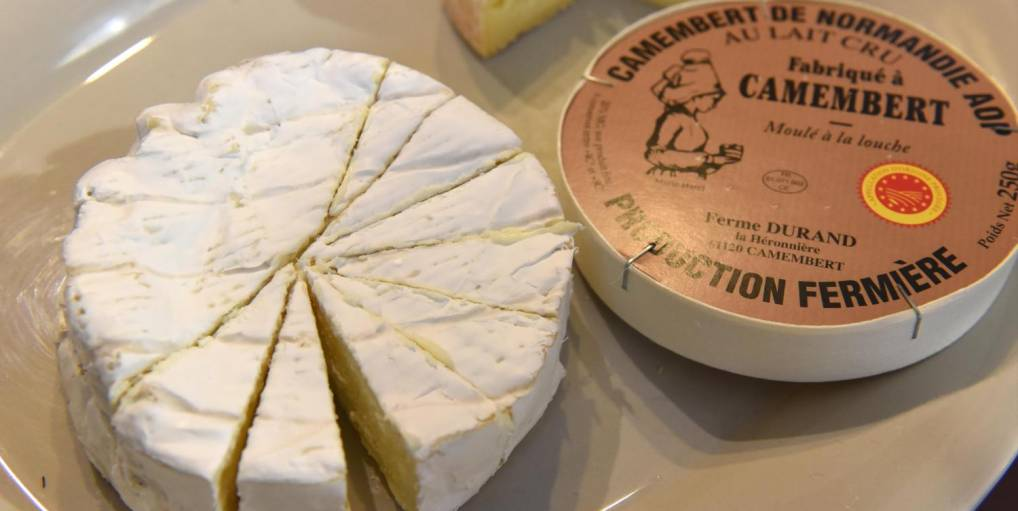camembert: (60, 41, 588, 511)
